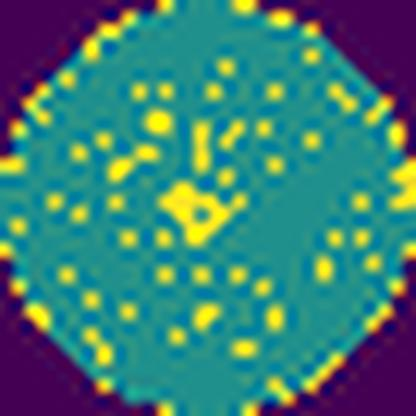Center: (157, 178, 250, 246)
